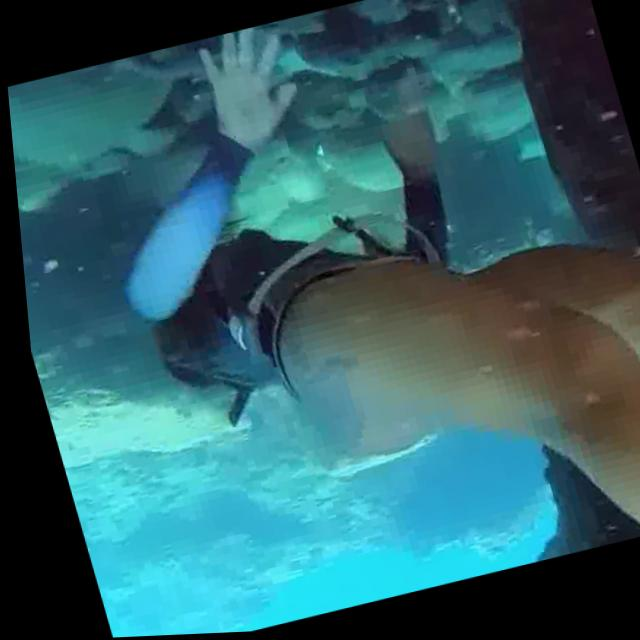human: (37, 0, 640, 639)
